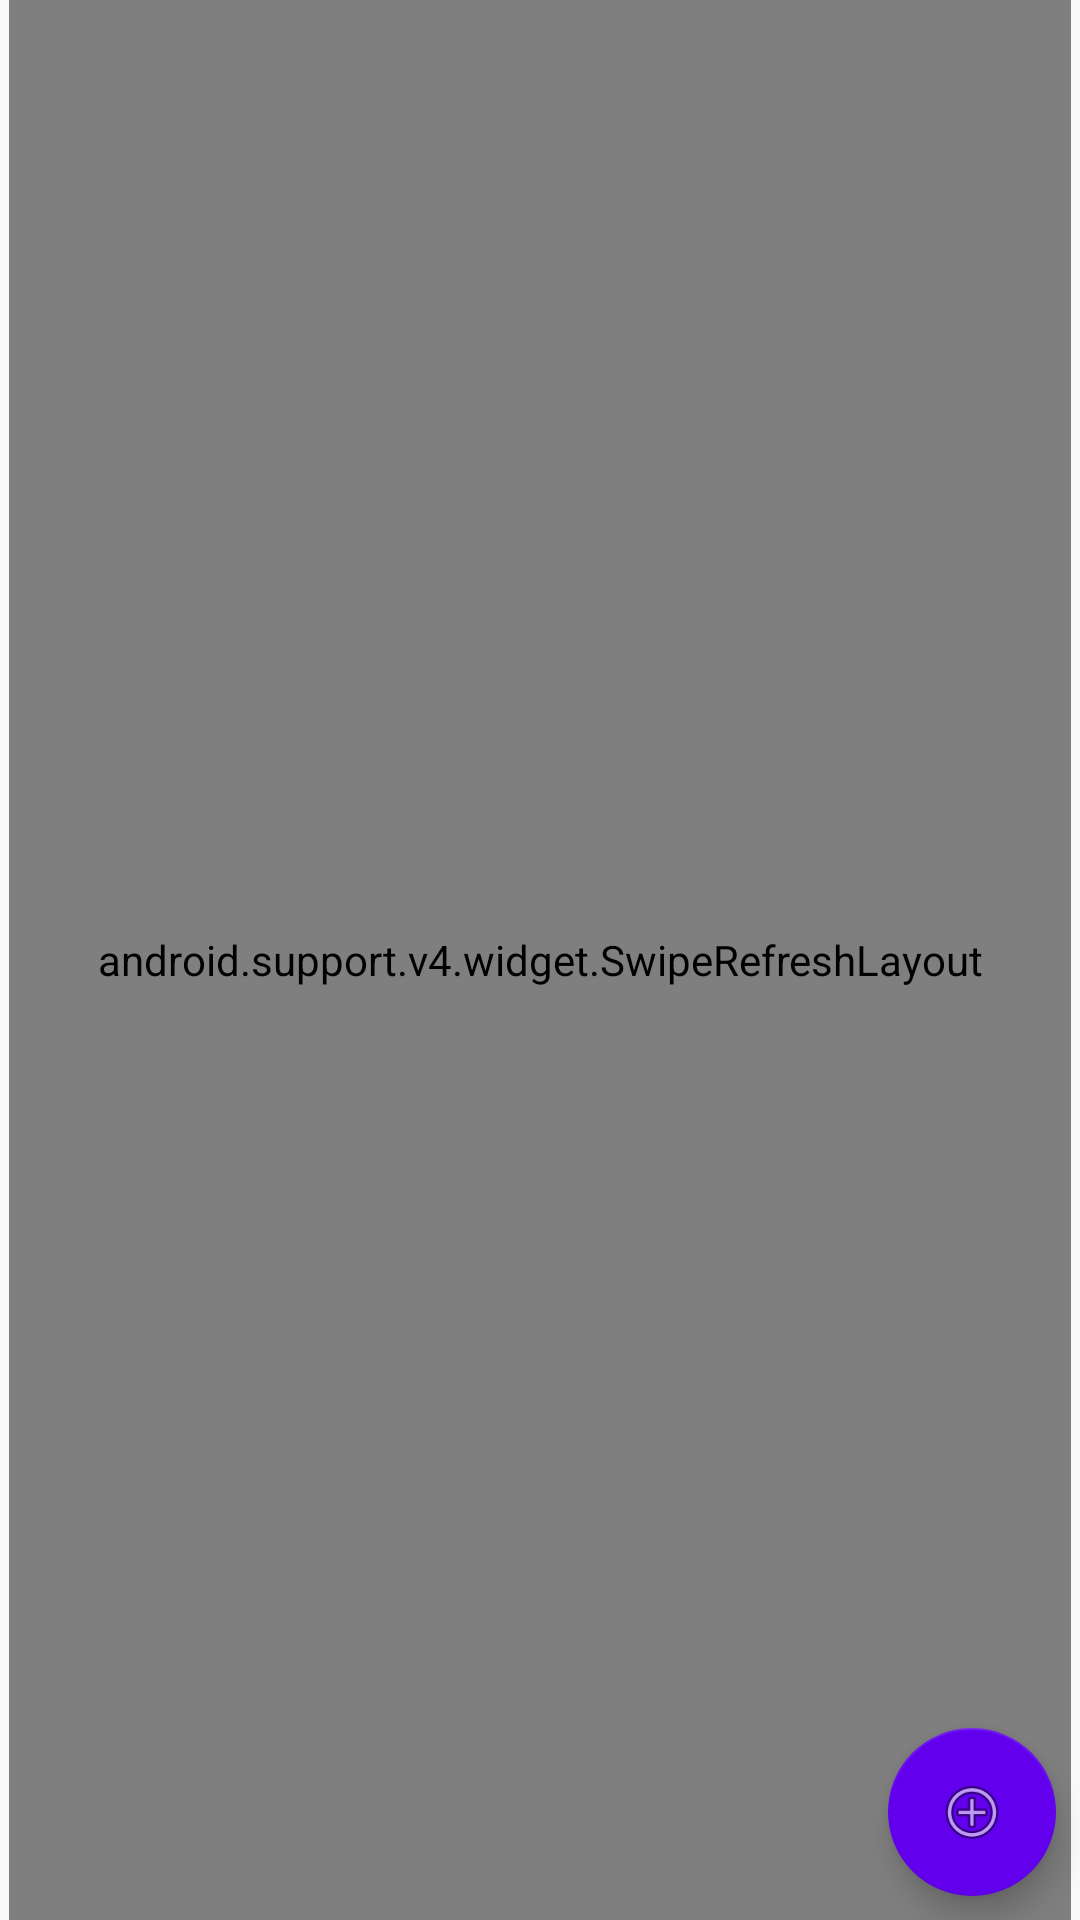

Icon bounding boxes for this 1080×1920 phone screenshot, format [x1=x1, y1=y1, x2=x2, y2=y2]:
add: [x1=888, y1=1728, x2=1056, y2=1896]
